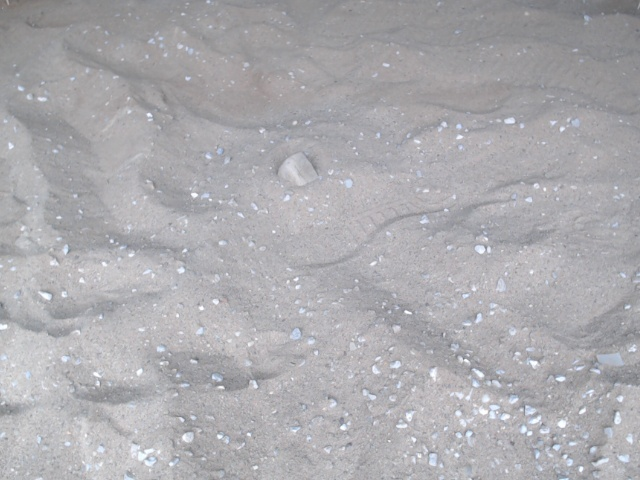rock: (270, 146, 324, 197)
